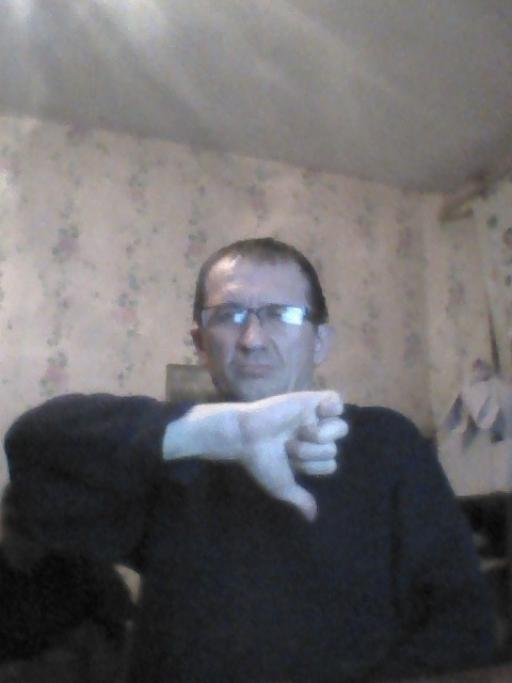dislike: (235, 386, 352, 522)
